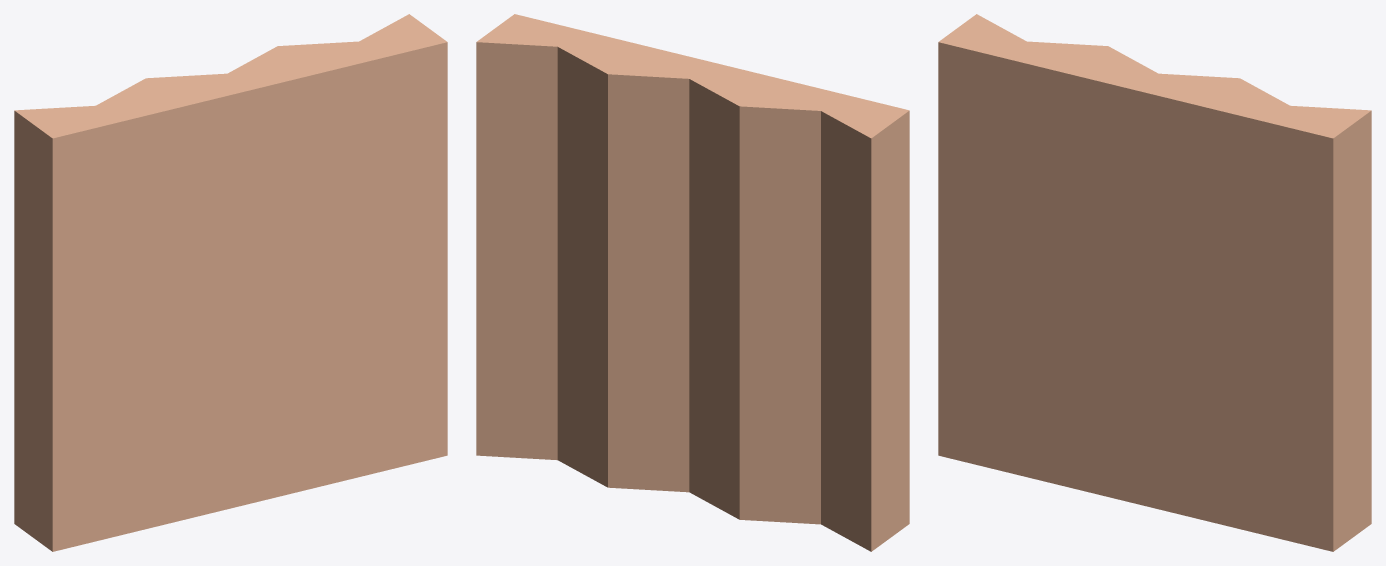
The model's file is cliff_rock.glb.
3 renders of one model, left to right at view 1: azimuth 30°, elevation 25°; view 2: azimuth 150°, elevation 25°; view 3: azimuth 330°, elevation 25°, orthographic.
Parts seen in each view (by area): view 1: cliff_rock; view 2: cliff_rock; view 3: cliff_rock.
Part boxes in pixels (<box>): cliff_rock: <box>14,14,447,551</box>; cliff_rock: <box>476,14,909,551</box>; cliff_rock: <box>938,14,1371,551</box>.
Size of the model in its own units: 1.16 by 1.16 by 0.1957.
